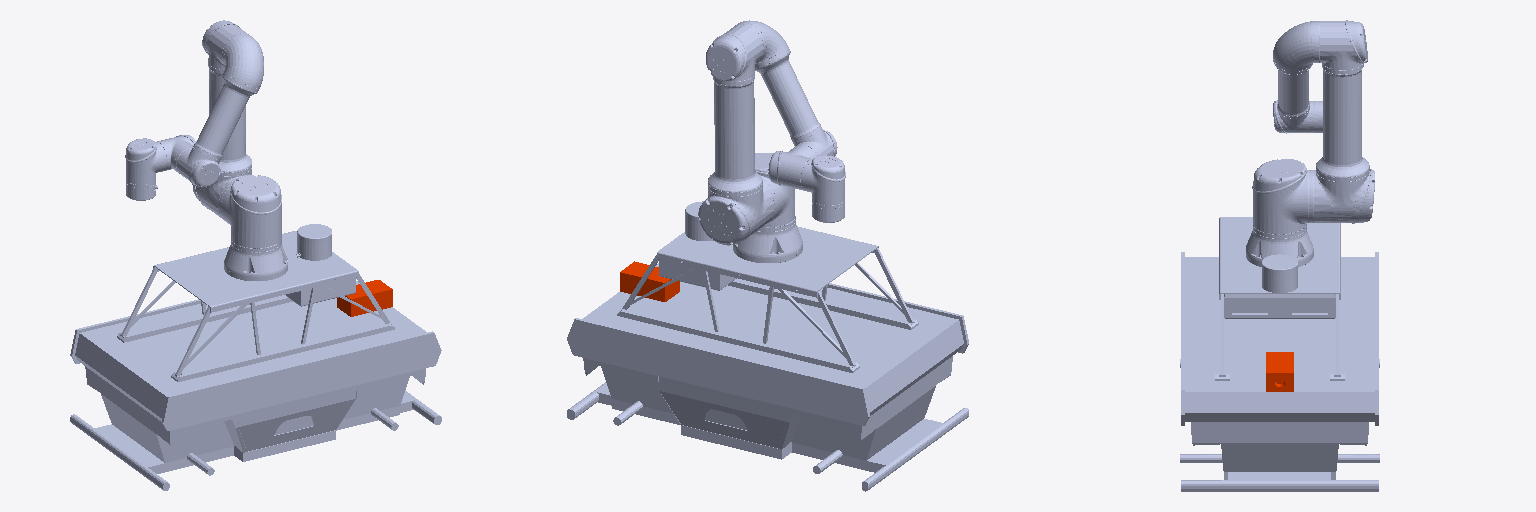
--- Facts derived from the render (not from the file) ---
The picture shows the robot from 3 angles, left to right: view 1: azimuth 30°, elevation 25°; view 2: azimuth 150°, elevation 25°; view 3: azimuth 270°, elevation 25°; orthographic projection.
Robot: industrial_mobile_robot — 16 links, 15 joints (6 revolute, 4 continuous, 5 fixed); root link base_link; default pose: every joint at zero.
Links seen in each view (by area): view 1: base_link, link_b3, link_b1, link_b2, arm_base_link, link_b5, link_lidar3d1, link_cam1, link_stereo1, link_b4; view 2: base_link, link_b2, link_b3, arm_base_link, link_b5, link_b4, link_b1, link_cam1, link_stereo1, link_lidar3d1, link_b6; view 3: base_link, link_b2, link_b3, link_b1, link_stereo1, arm_base_link, link_lidar3d1, link_cam1.
Link boxes in pixels (left/top/right/bottom): base_link: left=70, top=230, right=441, bottom=490; link_b3: left=176, top=33, right=263, bottom=187; link_b1: left=218, top=175, right=281, bottom=247; link_b2: left=192, top=20, right=251, bottom=217; arm_base_link: left=224, top=239, right=287, bottom=280; link_b5: left=125, top=138, right=166, bottom=184; link_lidar3d1: left=296, top=224, right=331, bottom=260; link_cam1: left=337, top=280, right=392, bottom=316; link_stereo1: left=286, top=278, right=355, bottom=306; link_b4: left=157, top=135, right=196, bottom=173; base_link: left=567, top=226, right=968, bottom=491; link_b2: left=698, top=25, right=773, bottom=245; link_b3: left=735, top=20, right=837, bottom=156; arm_base_link: left=733, top=216, right=802, bottom=262; link_b5: left=801, top=155, right=845, bottom=205; link_b4: left=768, top=145, right=817, bottom=190; link_b1: left=755, top=153, right=794, bottom=226; link_cam1: left=620, top=261, right=679, bottom=301; link_stereo1: left=659, top=260, right=736, bottom=290; link_lidar3d1: left=685, top=201, right=712, bottom=240; link_b6: left=812, top=200, right=844, bottom=222; base_link: left=1180, top=217, right=1379, bottom=491; link_b2: left=1314, top=20, right=1374, bottom=223; link_b3: left=1273, top=21, right=1319, bottom=133; link_b1: left=1252, top=159, right=1313, bottom=233; link_stereo1: left=1224, top=294, right=1335, bottom=318; arm_base_link: left=1246, top=223, right=1313, bottom=266; link_lidar3d1: left=1262, top=254, right=1297, bottom=292; link_cam1: left=1266, top=352, right=1293, bottom=391.
Size in the robot's own frame: 0.95 by 0.5561 by 1.23 metres.
Meshes: 16 distinct files referenced, 11 mesh visuals loaded (11 binary STL); not drawn: 5 (reference not matched to a file when rendering).

URDF robot description (industrial_mobile_robot):
<?xml version="1.0" encoding="utf-8"?>
<!-- This URDF was automatically created by SolidWorks to URDF Exporter! Originally created by Stephen Brawner ([email redacted]) 
     Commit Version: 1.6.0-4-g7f85cfe  Build Version: 1.6.7995.38578
     For more information, please see http://wiki.ros.org/sw_urdf_exporter -->
<robot
  name="industrial_mobile_robot">
  <link
    name="base_link">
    <inertial>
      <origin
        xyz="-0.000706613806839933 -1.51466277197083E-06 -0.0832416009452554"
        rpy="0 0 0" />
      <mass
        value="20.0" />
      <inertia
        ixx="3.15196293076855"
        ixy="5.75143481275299E-05"
        ixz="0.00180922884763957"
        iyy="8.27838511531717"
        iyz="-2.57084178703826E-05"
        izz="9.68878629564849" />
    </inertial>
    <visual>
      <origin
        xyz="0 0 0"
        rpy="0 0 0" />
      <geometry>
        <mesh
          filename="package://industrial_mobile_robot/meshes/base_link.STL" />
      </geometry>
      <material
        name="">
        <color
          rgba="0.792156862745098 0.819607843137255 0.933333333333333 1" />
      </material>
    </visual>
    <collision>
      <origin
        xyz="0 0 0"
        rpy="0 0 0" />
      <geometry>
        <mesh
          filename="package://industrial_mobile_robot/meshes/base_link.STL" />
      </geometry>
    </collision>
  </link>
  <link
    name="link_wh1l">
    <inertial>
      <origin
        xyz="-1.77848846760753E-11 1.3331742376721E-09 -4.83750431379271E-09"
        rpy="0 0 0" />
      <mass
        value="3.7" />
      <inertia
        ixx="0.0104142954777244"
        ixy="-8.24525130578282E-07"
        ixz="-1.28692701480105E-06"
        iyy="0.0104070240525027"
        iyz="-1.09500116009805E-05"
        izz="0.0159361237345323" />
    </inertial>
    <visual>
      <origin
        xyz="0 0 0"
        rpy="0 0 0" />
      <geometry>
        <mesh
          filename="package://industrial_mobile_robot/meshes/link_wh1l.STL" />
      </geometry>
      <material
        name="">
        <color
          rgba="0.792156862745098 0.819607843137255 0.933333333333333 1" />
      </material>
    </visual>
    <collision>
      <origin
        xyz="0 0 0"
        rpy="0 0 0" />
      <geometry>
        <mesh
          filename="package://industrial_mobile_robot/meshes/link_wh1l.STL" />
          

        
        
        
      </geometry>
      <surface>
        <friction>
          <ode>
            <mu>8000.1</mu>
            <mu2>0.4</mu2>
            <slip1>0.0</slip1>   <!-- añade resbalamiento longitudinal -->
            <slip2>0.0</slip2>   <!-- añade resbalamiento lateral -->
          </ode>
        </friction>
        <bounce>
          <restitution_coefficient>0.0</restitution_coefficient>
        </bounce>
      </surface>
    </collision>
  </link>
  <joint
    name="joint_wh1l"
    type="continuous">
    <origin
      xyz="0.31399 0.24657 -0.2201"
      rpy="-1.5708 0 3.1416" />
    <parent
      link="base_link" />
    <child
      link="link_wh1l" />
    <axis
      xyz="0 0 -1" />
  </joint>
  <link
    name="link_wh2l">
    <inertial>
      <origin
        xyz="1.24979831483962E-08 5.0021090880481E-09 5.85177903356104E-09"
        rpy="0 0 0" />
      <mass
        value="3.7" />
      <inertia
        ixx="0.0104121254993119"
        ixy="-3.42862911412428E-06"
        ixz="-6.12594235674742E-06"
        iyy="0.0104091971429616"
        iyz="-9.16790527635482E-06"
        izz="0.0159361249901461" />
    </inertial>
    <visual>
      <origin
        xyz="0 0 0"
        rpy="0 0 0" />
      <geometry>
        <mesh
          filename="package://industrial_mobile_robot/meshes/link_wh2l.STL" />
      </geometry>
      <material
        name="">
        <color
          rgba="0.792156862745098 0.819607843137255 0.933333333333333 1" />
      </material>
    </visual>
    <collision>
      <origin
        xyz="0 0 0"
        rpy="0 0 0" />
      <geometry>
        <mesh
          filename="package://industrial_mobile_robot/meshes/link_wh2l.STL" />
          
          
          
      </geometry>
      <surface>
        <friction>
          <ode>
            <mu>0.1</mu>
            <mu2>0.4</mu2>
            <slip1>0.0</slip1>   <!-- añade resbalamiento longitudinal -->
            <slip2>0.0</slip2>   <!-- añade resbalamiento lateral -->
          </ode>
        </friction>
        <bounce>
          <restitution_coefficient>0.0</restitution_coefficient>
        </bounce>
      </surface>
    </collision>
  </link>
  <joint
    name="joint_wh2l"
    type="continuous">
    <origin
      xyz="-0.31406 0.24657 -0.22008"
      rpy="-1.5708 0 3.1416" />
    <parent
      link="base_link" />
    <child
      link="link_wh2l" />
    <axis
      xyz="0 0 -1" />
  </joint>
  <link
    name="link_wh1r">
    <inertial>
      <origin
        xyz="1.31652960755346E-09 3.50002804516691E-11 -4.86615350792086E-09"
        rpy="0 0 0" />
      <mass
        value="3.7" />
      <inertia
        ixx="0.010406959646029"
        ixy="4.55456976592667E-07"
        ixz="-1.10008401379822E-05"
        iyy="0.0104143598697192"
        iyz="7.35089332306561E-07"
        izz="0.0159361237258818" />
    </inertial>
    <visual>
      <origin
        xyz="0 0 0"
        rpy="0 0 0" />
      <geometry>
        <mesh
          filename="package://industrial_mobile_robot/meshes/link_wh1r.STL" />
      </geometry>
      <material
        name="">
        <color
          rgba="0.792156862745098 0.819607843137255 0.933333333333333 1" />
      </material>
    </visual>
    <collision>
      <origin
        xyz="0 0 0"
        rpy="0 0 0" />
      <geometry>
        <mesh
          filename="package://industrial_mobile_robot/meshes/link_wh1r.STL" />
          
          
      </geometry>
      <surface>
        <friction>
          <ode>
            <mu>8000.1</mu>
            <mu2>0.4</mu2>
            <slip1>0.0</slip1>   <!-- añade resbalamiento longitudinal -->
            <slip2>0.0</slip2>   <!-- añade resbalamiento lateral -->
          </ode>
        </friction>
        <bounce>
          <restitution_coefficient>0.0</restitution_coefficient>
        </bounce>
      </surface>
    </collision>
  </link>
  <joint
    name="joint_wh1r"
    type="continuous">
    <origin
      xyz="0.3141 -0.24657 -0.21999"
      rpy="-1.5708 0 0" />
    <parent
      link="base_link" />
    <child
      link="link_wh1r" />
    <axis
      xyz="0 0 1" />
  </joint>
  <link
    name="link_wh2r">
    <inertial>
      <origin
        xyz="3.06266306759895E-09 -1.29133793103087E-08 5.73297093131586E-09"
        rpy="0 0 0" />
      <mass
        value="3.7" />
      <inertia
        ixx="0.0104102236889264"
        ixy="3.70239985220149E-06"
        ixz="-8.20151381525084E-06"
        iyy="0.0104110989680856"
        iyz="7.36973260494038E-06"
        izz="0.0159361250028455" />
    </inertial>
    <visual>
      <origin
        xyz="0 0 0"
        rpy="0 0 0" />
      <geometry>
        <mesh
          filename="package://industrial_mobile_robot/meshes/link_wh2r.STL" />
      </geometry>
      <material
        name="">
        <color
          rgba="0.792156862745098 0.819607843137255 0.933333333333333 1" />
      </material>
    </visual>
    <collision>
      <origin
        xyz="0 0 0"
        rpy="0 0 0" />
      <geometry>
        <mesh
          filename="package://industrial_mobile_robot/meshes/link_wh2r.STL" />
          
          
          
      </geometry>
      <surface>
        <friction>
          <ode>
            <mu>0.1</mu>
            <mu2>0.4</mu2>
            <slip1>0.0</slip1>   <!-- añade resbalamiento longitudinal -->
            <slip2>0.0</slip2>   <!-- añade resbalamiento lateral -->
          </ode>
        </friction>
        <bounce>
          <restitution_coefficient>0.0</restitution_coefficient>
        </bounce>
      </surface>
    </collision>
  </link>
  <joint
    name="joint_wh2r"
    type="continuous">
    <origin
      xyz="-0.31392 -0.24657 -0.21993"
      rpy="-1.5708 0 0" />
    <parent
      link="base_link" />
    <child
      link="link_wh2r" />
    <axis
      xyz="0 0 1" />
  </joint>
  <link
    name="link_cam1">
    <inertial>
      <origin
        xyz="-0.029 2.3039296165317E-19 0.00133886472296407"
        rpy="0 0 0" />
      <mass
        value="0.649382833058846" />
      <inertia
        ixx="0.00142866989558785"
        ixy="-5.3205128777967E-21"
        ixz="-6.7773672960819E-20"
        iyy="0.00126079933558785"
        iyz="4.85549597316419E-20"
        izz="0.000538293675385787" />
    </inertial>
    <visual>
      <origin
        xyz="0 0 0"
        rpy="0 0 0" />
      <geometry>
        <mesh
          filename="package://industrial_mobile_robot/meshes/link_cam1.STL" />
      </geometry>
      <material
        name="">
        <color
          rgba="0.968627450980392 0.286274509803922 0 1" />
      </material>
    </visual>
    <collision>
      <origin
        xyz="0 0 0"
        rpy="0 0 0" />
      <geometry>
        <mesh
          filename="package://industrial_mobile_robot/meshes/link_cam1.STL" />
      </geometry>
    </collision>
  </link>
  <joint
    name="joint_cam1"
    type="fixed">
    <origin
      xyz="0.37163 -8.6778E-05 0.045"
      rpy="3.1416 1.5708 0" />
    <parent
      link="base_link" />
    <child
      link="link_cam1" />
    <axis
      xyz="0 0 0" />
  </joint>
  <link
    name="link_stereo1">
    <inertial>
      <origin
        xyz="0.0390609299067655 -4.51697828717391E-10 0.00192361742920039"
        rpy="0 0 0" />
      <mass
        value="4.47983602571154" />
      <inertia
        ixx="0.0486891113790726"
        ixy="7.10767134060452E-11"
        ixz="5.25018771229614E-07"
        iyy="0.0151919553048369"
        iyz="-4.17523755856592E-09"
        izz="0.0380713030972426" />
    </inertial>
    <visual>
      <origin
        xyz="0 0 0"
        rpy="0 0 0" />
      <geometry>
        <mesh
          filename="package://industrial_mobile_robot/meshes/link_stereo1.STL" />
      </geometry>
      <material
        name="">
        <color
          rgba="0.792156862745098 0.819607843137255 0.933333333333333 1" />
      </material>
    </visual>
    <collision>
      <origin
        xyz="0 0 0"
        rpy="0 0 0" />
      <geometry>
        <mesh
          filename="package://industrial_mobile_robot/meshes/link_stereo1.STL" />
      </geometry>
    </collision>
  </link>
  <joint
    name="joint_stereo1"
    type="fixed">
    <origin
      xyz="0.15742 -8.6778E-05 0.257"
      rpy="3.1416 1.5708 0" />
    <parent
      link="base_link" />
    <child
      link="link_stereo1" />
    <axis
      xyz="0 0 0" />
  </joint>
  <link
    name="link_lidar3d1">
    <inertial>
      <origin
        xyz="-0.000343870817546166 0.0362966771287366 3.28690207281871E-06"
        rpy="0 0 0" />
      <mass
        value="0.605610172284954" />
      <inertia
        ixx="0.000667040712181393"
        ixy="1.81289461732285E-06"
        ixz="1.75260014158209E-11"
        iyy="0.000804073841920548"
        iyz="6.676371641242E-08"
        izz="0.000670924675017662" />
    </inertial>
    <visual>
      <origin
        xyz="0 0 0"
        rpy="0 0 0" />
      <geometry>
        <mesh
          filename="package://industrial_mobile_robot/meshes/link_lidar3d1.STL" />
      </geometry>
      <material
        name="">
        <color
          rgba="0.792156862745098 0.819607843137255 0.933333333333333 1" />
      </material>
    </visual>
    <collision>
      <origin
        xyz="0 0 0"
        rpy="0 0 0" />
      <geometry>
        <mesh
          filename="package://industrial_mobile_robot/meshes/link_lidar3d1.STL" />
      </geometry>
    </collision>
  </link>
  <joint
    name="joint_lidar3d1"
    type="fixed">
    <origin
      xyz="0.20047 -8.6778E-05 0.26"
      rpy="1.5708 0 3.1416" />
    <parent
      link="base_link" />
    <child
      link="link_lidar3d1" />
    <axis
      xyz="0 0 0" />
  </joint>
  <link
    name="arm_base_link">
    <inertial>
      <origin
        xyz="-0.00150709009035968 8.0407056077491E-05 0.0592787471384649"
        rpy="0 0 0" />
      <mass
        value="1.24177738140115" />
      <inertia
        ixx="0.00365451507872831"
        ixy="8.09915199553586E-07"
        ixz="-8.00546823695909E-05"
        iyy="0.00326596437131163"
        iyz="2.64852384325746E-06"
        izz="0.00500712209645328" />
    </inertial>
    <visual>
      <origin
        xyz="0 0 0"
        rpy="0 0 0" />
      <geometry>
        <mesh
          filename="package://industrial_mobile_robot/meshes/arm_base_link.STL" />
      </geometry>
      <material
        name="">
        <color
          rgba="0.792156862745098 0.819607843137255 0.933333333333333 1" />
      </material>
    </visual>
    <collision>
      <origin
        xyz="0 0 0"
        rpy="0 0 0" />
      <geometry>
        <mesh
          filename="package://industrial_mobile_robot/meshes/arm_base_link.STL" />
      </geometry>
    </collision>
  </link>
  <joint
    name="arm_base_joint"
    type="fixed">
    <origin
      xyz="0.00048196 -0.00084016 0.26"
      rpy="0 0 0" />
    <parent
      link="base_link" />
    <child
      link="arm_base_link" />
    <axis
      xyz="0 0 0" />
  </joint>
  <link
    name="link_b1">
    <inertial>
      <origin
        xyz="0.0130931670013003 -7.18303053633758E-07 0.000854712659079992"
        rpy="0 0 0" />
      <mass
        value="3.45631382183273" />
      <inertia
        ixx="0.0124436335215027"
        ixy="2.07845808632762E-07"
        ixz="-0.000227441964051589"
        iyy="0.0140385089797395"
        iyz="2.79176990399595E-08"
        izz="0.0118934102194409" />
    </inertial>
    <visual>
      <origin
        xyz="0 0 0"
        rpy="0 0 0" />
      <geometry>
        <mesh
          filename="package://industrial_mobile_robot/meshes/link_b1.STL" />
      </geometry>
      <material
        name="">
        <color
          rgba="0.792156862745098 0.819607843137255 0.933333333333333 1" />
      </material>
    </visual>
    <collision>
      <origin
        xyz="0 0 0"
        rpy="0 0 0" />
      <geometry>
        <mesh
          filename="package://industrial_mobile_robot/meshes/link_b1.STL" />
      </geometry>
    </collision>
  </link>
  <joint
    name="joint_b1"
    type="revolute">
    <origin
      xyz="0 0 0.1807"
      rpy="0 0 1.5694" />
    <parent
      link="arm_base_link" />
    <child
      link="link_b1" />
    <axis
      xyz="0 0 -1" />
    <limit
      lower="-1.57"
      upper="1.57"
      effort="330"
      velocity="3.14" />
  </joint>
  <link
    name="link_b2">
    <inertial>
      <origin
        xyz="0.189752378837526 3.68282968995267E-06 -0.000246842308868428"
        rpy="0 0 0" />
      <mass
        value="8.08742845028777" />
      <inertia
        ixx="0.0206359802008794"
        ixy="-2.77529326376294E-08"
        ixz="-0.000577937657402766"
        iyy="0.285722434787471"
        iyz="9.87703438506375E-08"
        izz="0.283055548080933" />
    </inertial>
    <visual>
      <origin
        xyz="0 0 0"
        rpy="0 0 0" />
      <geometry>
        <mesh
          filename="package://industrial_mobile_robot/meshes/link_b2.STL" />
      </geometry>
      <material
        name="">
        <color
          rgba="0.792156862745098 0.819607843137255 0.933333333333333 1" />
      </material>
    </visual>
    <collision>
      <origin
        xyz="0 0 0"
        rpy="0 0 0" />
      <geometry>
        <mesh
          filename="package://industrial_mobile_robot/meshes/link_b2.STL" />
      </geometry>
    </collision>
  </link>
  <joint
    name="joint_b2"
    type="revolute">
    <origin
      xyz="0.176 0 0"
      rpy="1.5708 -1.559 -1.5708" />
    <parent
      link="link_b1" />
    <child
      link="link_b2" />
    <axis
      xyz="0 0 -1" />
    <limit
      lower="-1.57"
      upper="1.57"
      effort="330"
      velocity="3.14" />
  </joint>
  <link
    name="link_b3">
    <inertial>
      <origin
        xyz="0.144189452218583 -0.0797185244215877 0.129861312892516"
        rpy="0 0 0" />
      <mass
        value="3.42307941031871" />
      <inertia
        ixx="0.0196048661475678"
        ixy="0.0261731624319093"
        ixz="-0.00320584664482447"
        iyy="0.052475384400285"
        iyz="0.00177224467455136"
        izz="0.0661062588974213" />
    </inertial>
    <visual>
      <origin
        xyz="0 0 0"
        rpy="0 0 0" />
      <geometry>
        <mesh
          filename="package://industrial_mobile_robot/meshes/link_b3.STL" />
      </geometry>
      <material
        name="">
        <color
          rgba="0.792156862745098 0.819607843137255 0.933333333333333 1" />
      </material>
    </visual>
    <collision>
      <origin
        xyz="0 0 0"
        rpy="0 0 0" />
      <geometry>
        <mesh
          filename="package://industrial_mobile_robot/meshes/link_b3.STL" />
      </geometry>
    </collision>
  </link>
  <joint
    name="joint_b3"
    type="revolute">
    <origin
      xyz="0.4784 0 0"
      rpy="0 0 3.1416" />
    <parent
      link="link_b2" />
    <child
      link="link_b3" />
    <axis
      xyz="0 0 1" />
    <limit
      lower="-1.57"
      upper="1.57"
      effort="150"
      velocity="3.14" />
  </joint>
  <link
    name="link_b4">
    <inertial>
      <origin
        xyz="-0.00162464283956537 -0.00286102429022972 0.119414075595399"
        rpy="0 0 0" />
      <mass
        value="0.953400520734031" />
      <inertia
        ixx="0.00174552490999951"
        ixy="-0.000135339271063085"
        ixz="2.29706334045983E-05"
        iyy="0.00158443507437754"
        iyz="4.04070531854285E-05"
        izz="0.00132739275040238" />
    </inertial>
    <visual>
      <origin
        xyz="0 0 0"
        rpy="0 0 0" />
      <geometry>
        <mesh
          filename="package://industrial_mobile_robot/meshes/link_b4.STL" />
      </geometry>
      <material
        name="">
        <color
          rgba="0.792156862745098 0.819607843137255 0.933333333333333 1" />
      </material>
    </visual>
    <collision>
      <origin
        xyz="0 0 0"
        rpy="0 0 0" />
      <geometry>
        <mesh
          filename="package://industrial_mobile_robot/meshes/link_b4.STL" />
      </geometry>
    </collision>
  </link>
  <joint
    name="joint_b4"
    type="revolute">
    <origin
      xyz="0.31503 -0.17245 0.1372"
      rpy="-3.1416 0 2.6364" />
    <parent
      link="link_b3" />
    <child
      link="link_b4" />
    <axis
      xyz="0 0 1" />
    <limit
      lower="-1.57"
      upper="1.57"
      effort="54"
      velocity="3.14" />
  </joint>
  <link
    name="link_b5">
    <inertial>
      <origin
        xyz="0.110246571921961 0.00173798640074974 -1.56245200083616E-07"
        rpy="0 0 0" />
      <mass
        value="0.854428409804227" />
      <inertia
        ixx="0.00122608147274521"
        ixy="-3.70945044826588E-05"
        ixz="1.8095845969311E-09"
        iyy="0.00112478685814982"
        iyz="1.22656849427909E-08"
        izz="0.00143902109632303" />
    </inertial>
    <visual>
      <origin
        xyz="0 0 0"
        rpy="0 0 0" />
      <geometry>
        <mesh
          filename="package://industrial_mobile_robot/meshes/link_b5.STL" />
      </geometry>
      <material
        name="">
        <color
          rgba="0.792156862745098 0.819607843137255 0.933333333333333 1" />
      </material>
    </visual>
    <collision>
      <origin
        xyz="0 0 0"
        rpy="0 0 0" />
      <geometry>
        <mesh
          filename="package://industrial_mobile_robot/meshes/link_b5.STL" />
      </geometry>
    </collision>
  </link>
  <joint
    name="joint_b5"
    type="revolute">
    <origin
      xyz="-0.00085954 -0.0015118 0.13535"
      rpy="-3.1416 0 -2.0878" />
    <parent
      link="link_b4" />
    <child
      link="link_b5" />
    <axis
      xyz="1 0 0" />
    <limit
      lower="-1.57"
      upper="1.57"
      effort="54"
      velocity="3.14" />
  </joint>
  <link
    name="link_b6">
    <inertial>
      <origin
        xyz="-5.9294004554955E-05 -5.15889062889796E-05 0.0846631442041097"
        rpy="0 0 0" />
      <mass
        value="0.350538554211854" />
      <inertia
        ixx="0.000264858740543648"
        ixy="4.69574983805387E-07"
        ixz="3.90167976384276E-08"
        iyy="0.000264726273921372"
        iyz="3.37747313999152E-08"
        izz="0.00034747848189182" />
    </inertial>
    <visual>
      <origin
        xyz="0 0 0"
        rpy="0 0 0" />
      <geometry>
        <mesh
          filename="package://industrial_mobile_robot/meshes/link_b6.STL" />
      </geometry>
      <material
        name="">
        <color
          rgba="0.792156862745098 0.819607843137255 0.933333333333333 1" />
      </material>
    </visual>
    <collision>
      <origin
        xyz="0 0 0"
        rpy="0 0 0" />
      <geometry>
        <mesh
          filename="package://industrial_mobile_robot/meshes/link_b6.STL" />
      </geometry>
    </collision>
  </link>
  <joint
    name="joint_b6"
    type="revolute">
    <origin
      xyz="0.11985 0 0"
      rpy="1.5708 0.0013732 -3.1416" />
    <parent
      link="link_b5" />
    <child
      link="link_b6" />
    <axis
      xyz="0 0 -1" />
    <limit
      lower="-1.57"
      upper="1.57"
      effort="28"
      velocity="3.14" />
  </joint>
  <link
    name="link_b7">
    <inertial>
      <origin
        xyz="-0.0357959657263475 0.000320445657188501 -0.0465976153788997"
        rpy="0 0 0" />
      <mass
        value="2.75184405159635" />
      <inertia
        ixx="0.00690734990428444"
        ixy="-1.18291184041857E-08"
        ixz="5.54685652140436E-06"
        iyy="0.0141969093433405"
        iyz="-8.94270280914313E-08"
        izz="0.0204939437753343" />
    </inertial>
    <visual>
      <origin
        xyz="0 0 0"
        rpy="0 0 0" />
      <geometry>
        <mesh
          filename="package://industrial_mobile_robot/meshes/link_b7.STL" />
      </geometry>
      <material
        name="">
        <color
          rgba="0.792156862745098 0.819607843137255 0.933333333333333 1" />
      </material>
    </visual>
    <collision>
      <origin
        xyz="0 0 0"
        rpy="0 0 0" />
      <geometry>
        <mesh
          filename="package://industrial_mobile_robot/meshes/link_b7.STL" />
      </geometry>
    </collision>
  </link>
  <joint
    name="joint_b7"
    type="fixed">
    <origin
      xyz="0.0048215 0.0010239 0.11035"
      rpy="3.1416 0 3.1416" />
    <parent
      link="link_b6" />
    <child
      link="link_b7" />
    <axis
      xyz="0 0 0" />
  </joint>
  
  <gazebo>
     <plugin filename="libignition-gazebo-diff-drive-system.so" name="ignition::gazebo::systems::DiffDrive">
      <left_joint>joint_wh1l</left_joint>
      <left_joint>joint_wh2l</left_joint>
      
      <right_joint>joint_wh1r</right_joint>
      <right_joint>joint_wh2r</right_joint>

      <!-- Dimensiones físicas -->
      <wheel_separation>0.55</wheel_separation> <!-- distancia entre ruedas -->
      <wheel_radius>0.126</wheel_radius>           <!-- radio de la rueda -->

      <!-- Control -->
      <topic>/cmd_vel</topic>
      <odom_topic>/odom</odom_topic>
      <odom_frame>odom</odom_frame>
      <base_frame>base_link</base_frame>
      <publish_odom>true</publish_odom>
      <publish_tf>true</publish_tf>

      <!-- Parámetros adicionales -->
      <max_wheel_torque>1000</max_wheel_torque>
      <!--max_linear_accel>20.0</max_linear_accel>
      <max_angular_accel>0.01</max_angular_accel>-->
    </plugin>


    <plugin filename="ignition-gazebo-joint-state-publisher-system" name="ignition::gazebo::systems::JointStatePublisher">
      <topic>/joint_states</topic>
    </plugin>
    
    <plugin filename="libignition-gazebo-joint-position-controller-system.so" name="ignition::gazebo::systems::JointPositionController">
      <joint_name>joint_b1</joint_name>
      <topic>/joint_b1/cmd_pos</topic>
      <p_gain>150.0</p_gain>
      <i_gain>0.1</i_gain>
      <d_gain>57.4</d_gain>
    </plugin>

    <plugin filename="libignition-gazebo-joint-position-controller-system.so" name="ignition::gazebo::systems::JointPositionController">
      <joint_name>joint_b2</joint_name>
      <topic>/joint_b2/cmd_pos</topic>
      <p_gain>160.0</p_gain>
      <i_gain>0.1</i_gain>
      <d_gain>27.4</d_gain>
    </plugin>

    <plugin filename="libignition-gazebo-joint-position-controller-system.so" name="ignition::gazebo::systems::JointPositionController">
      <joint_name>joint_b3</joint_name>
      <topic>/joint_b3/cmd_pos</topic>
      <p_gain>180.0</p_gain>
      <i_gain>0.1</i_gain>
      <d_gain>27.4</d_gain>
    </plugin>
    
    <plugin filename="libignition-gazebo-joint-position-controller-system.so" name="ignition::gazebo::systems::JointPositionController">
      <joint_name>joint_b4</joint_name>
      <topic>/joint_b4/cmd_pos</topic>
      <p_gain>190.0</p_gain>
      <i_gain>0.1</i_gain>
      <d_gain>40.4</d_gain>
    </plugin>
    
    <plugin filename="libignition-gazebo-joint-position-controller-system.so" name="ignition::gazebo::systems::JointPositionController">
      <joint_name>joint_b5</joint_name>
      <topic>/joint_b5/cmd_pos</topic>
      <p_gain>190.0</p_gain>
      <i_gain>0.1</i_gain>
      <d_gain>27.4</d_gain>
    </plugin>
    
    <plugin filename="libignition-gazebo-joint-position-controller-system.so" name="ignition::gazebo::systems::JointPositionController">
      <joint_name>joint_b6</joint_name>
      <topic>/joint_b6/cmd_pos</topic>
      <p_gain>90.0</p_gain>
      <i_gain>0.1</i_gain>
      <d_gain>72.4</d_gain>
    </plugin>
  </gazebo>
</robot>
